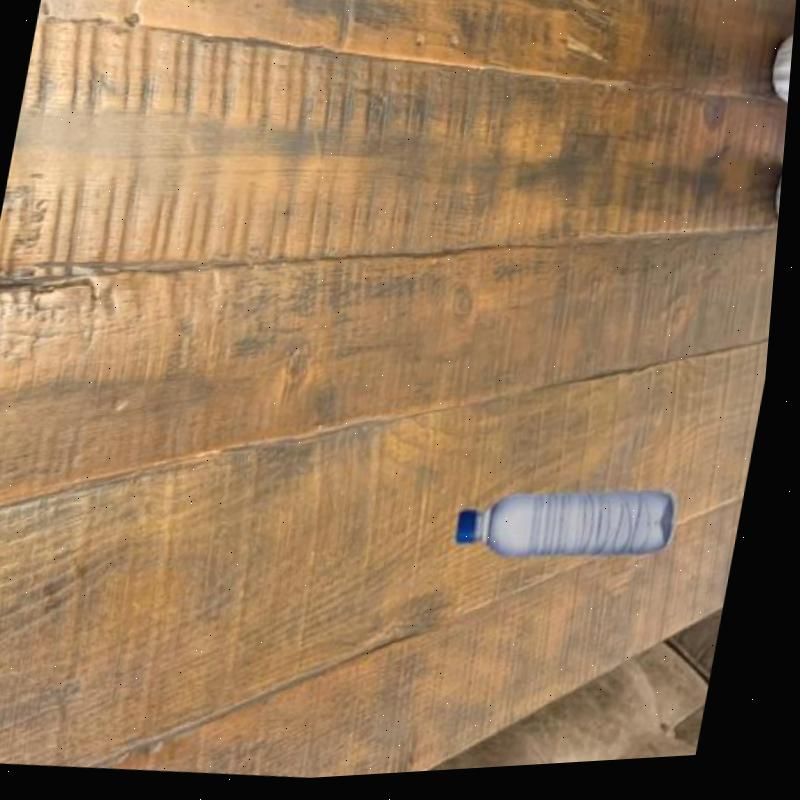botella: (458, 476, 690, 583)
